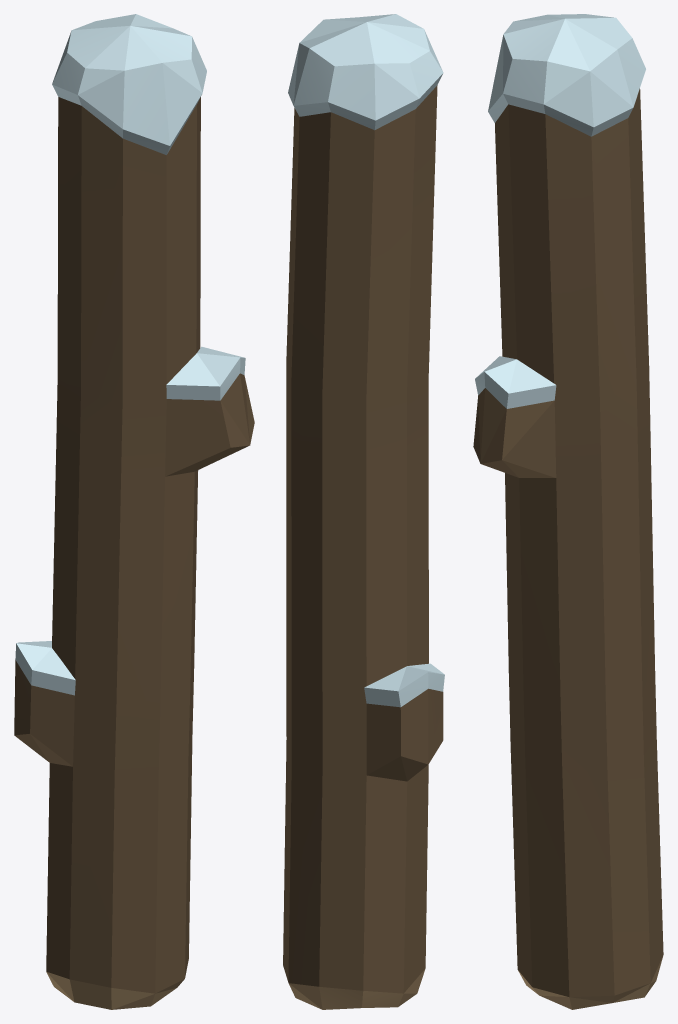
File: Palo_Cerca01.glb
3 renders of one model, left to right at view 1: azimuth 30°, elevation 25°; view 2: azimuth 150°, elevation 25°; view 3: azimuth 270°, elevation 25°, orthographic.
Visible parts, largest first — view 1: SM_Prop_Fence_Wood_Pole_01_Snow; view 2: SM_Prop_Fence_Wood_Pole_01_Snow; view 3: SM_Prop_Fence_Wood_Pole_01_Snow.
Part boxes in pixels (bbox=[...]): SM_Prop_Fence_Wood_Pole_01_Snow: bbox=[14, 14, 254, 1009]; SM_Prop_Fence_Wood_Pole_01_Snow: bbox=[283, 14, 444, 1009]; SM_Prop_Fence_Wood_Pole_01_Snow: bbox=[473, 14, 663, 1009].
Bounding box in the file's own units: 0.6866 × 3.51 × 0.6217.
1 material, 1 textured.
